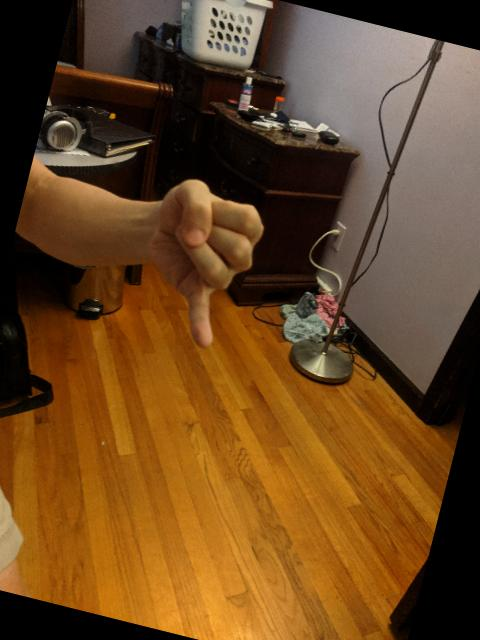J: (124, 163, 280, 363)
